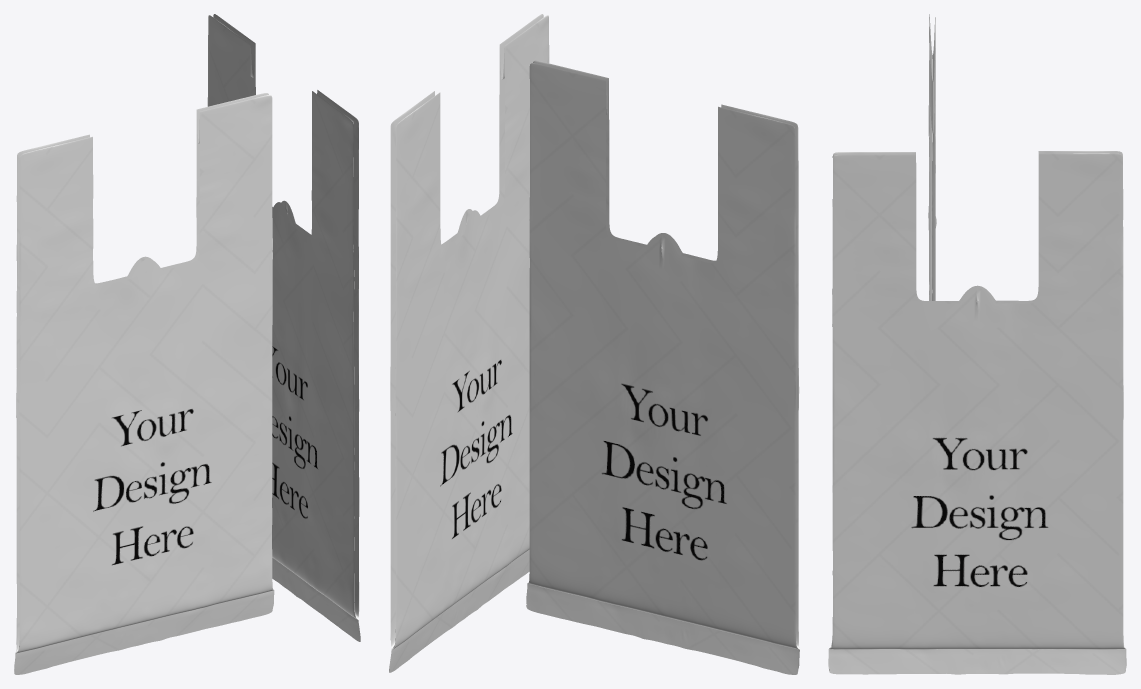
The model's file is Bio de A-1.glb.
3 renders of one model, left to right at view 1: azimuth 30°, elevation 25°; view 2: azimuth 150°, elevation 25°; view 3: azimuth 270°, elevation 25°, orthographic. The views are drawn at different scales.
Visible parts, largest first — view 1: Plane.002, Plane.003; view 2: Plane.002, Plane.003; view 3: Plane.003, Plane.002.
Part boxes in pixels (box(x1,y1,x2,y2)): Plane.002: box(14, 93, 274, 674); Plane.003: box(207, 14, 360, 641); Plane.002: box(526, 60, 799, 674); Plane.003: box(389, 14, 549, 672); Plane.003: box(828, 151, 1126, 674); Plane.002: box(928, 14, 936, 300).
Bounding box in the file's own units: 2.08 × 3.52 × 1.83.
Materials: 1 (1 with a texture image).
